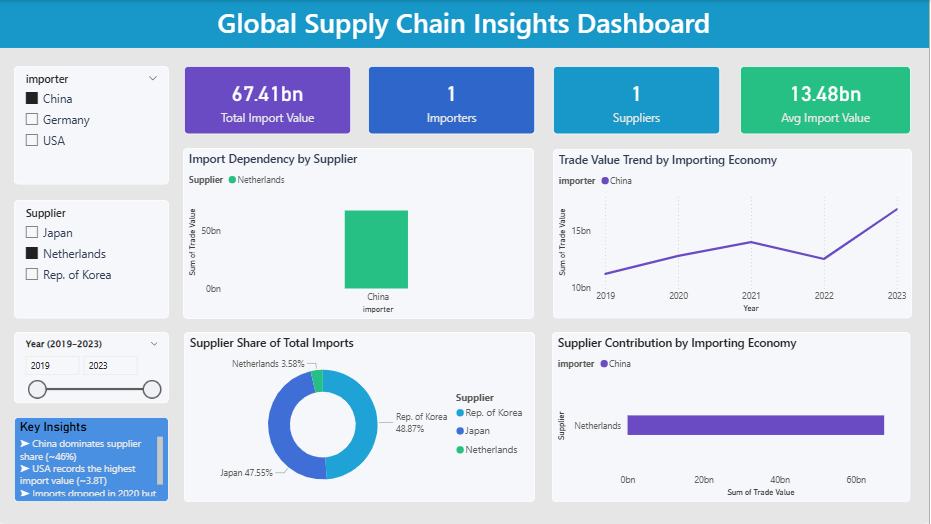

This screenshot's page, from the dashboard's own definition file:
{"tool":"powerbi","page":{"name":"Page 1","canvas":[1280,720],"ordinal":0},"visuals":[{"type":"clusteredBarChart","title":"Supplier Contribution by Importing Economy","fields":{"Category":["Sheet1.Supplier"],"Y":["Sum(Sheet1.Trade Value)"],"Series":["Sheet1.importer"]},"box":[761.1,456.9,492.7,234],"z":0},{"type":"lineChart","title":"Trade Value Trend by Importing Economy","fields":{"Category":["Sheet1.Year"],"Y":["Sum(Sheet1.Trade Value)"],"Series":["Sheet1.importer"]},"box":[762.5,205.1,494.1,232.6],"z":1000},{"type":"donutChart","title":"Supplier Share of Total Imports","fields":{"Category":["Sheet1.Supplier"],"Y":["Sum(Sheet1.Trade Value)"]},"box":[254.6,456.9,483.1,234],"z":2000},{"type":"lineStackedColumnComboChart","title":"Import Dependency by Supplier","fields":{"Category":["Sheet1.importer"],"Y":["Sum(Sheet1.Trade Value)"],"Series":["Sheet1.Supplier"]},"box":[253.2,203.7,483.1,235.4],"z":3000},{"type":"slicer","fields":{"Values":["Sheet1.importer"]},"box":[21.2,91.2,212.5,162.5],"z":4000},{"type":"slicer","fields":{"Values":["Sheet1.Supplier"]},"box":[21.2,275,212.5,162.5],"z":5000},{"type":"slicer","fields":{"Values":["Sheet1.Year"]},"box":[20.6,456.9,213.3,97.7],"z":6000},{"type":"card","fields":{"Values":["Sum(Sheet1.Trade Value)"]},"box":[254.6,90.8,229.8,93.6],"z":7000},{"type":"card","fields":{"Values":["Sheet1.Avg Import Value"]},"box":[1019.9,90.8,235.4,93.6],"z":8000},{"type":"card","fields":{"Values":["Sheet1.Suppliers"]},"box":[762.5,90.8,229.8,93.6],"z":9000},{"type":"card","fields":{"Values":["Sheet1.Importers"]},"box":[507.9,90.8,229.8,93.6],"z":10000},{"type":"textbox","box":[0,0,1280,66.1],"z":11000},{"type":"textbox","title":"Key Insights","box":[20.6,573.9,213.3,117],"z":12000}]}

Visuals, with their boxes in screenshot pixels (x1, y1, x2, y2), scaled from the page's 1280x720 canvas onto the 931x524 screenshot:
"Supplier Contribution by Importing Economy" clusteredBarChart: Rect(554, 333, 912, 503)
"Trade Value Trend by Importing Economy" lineChart: Rect(555, 149, 914, 319)
"Supplier Share of Total Imports" donutChart: Rect(185, 333, 537, 503)
"Import Dependency by Supplier" lineStackedColumnComboChart: Rect(184, 148, 536, 320)
slicer - Sheet1.importer: Rect(15, 66, 170, 185)
slicer - Sheet1.Supplier: Rect(15, 200, 170, 318)
slicer - Sheet1.Year: Rect(15, 333, 170, 404)
card - Sum(Sheet1.Trade Value): Rect(185, 66, 352, 134)
card - Sheet1.Avg Import Value: Rect(742, 66, 913, 134)
card - Sheet1.Suppliers: Rect(555, 66, 722, 134)
card - Sheet1.Importers: Rect(369, 66, 537, 134)
textbox: Rect(0, 0, 930, 48)
"Key Insights" textbox: Rect(15, 418, 170, 503)
